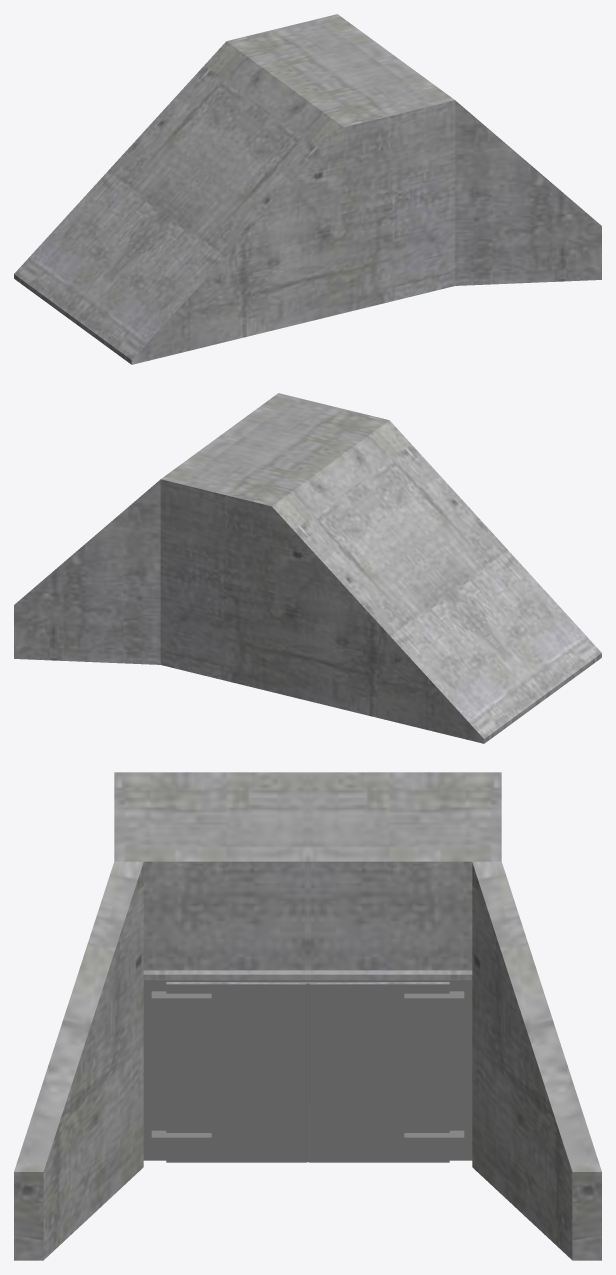
Rendered from End3_House1.fbx.
3 renders of one model, top to bottom at view 1: azimuth 30°, elevation 25°; view 2: azimuth 150°, elevation 25°; view 3: azimuth 270°, elevation 25°, orthographic. The views are drawn at different scales.
Visible parts, largest first — view 1: Bunker; view 2: Bunker; view 3: Bunker.
Part boxes in pixels (x1,y1,x2,y2): Bunker: (14,14,601,364); Bunker: (14,393,601,743); Bunker: (14,772,601,1260).
Bounding box in the file's own units: 2321 × 936 × 1633.
